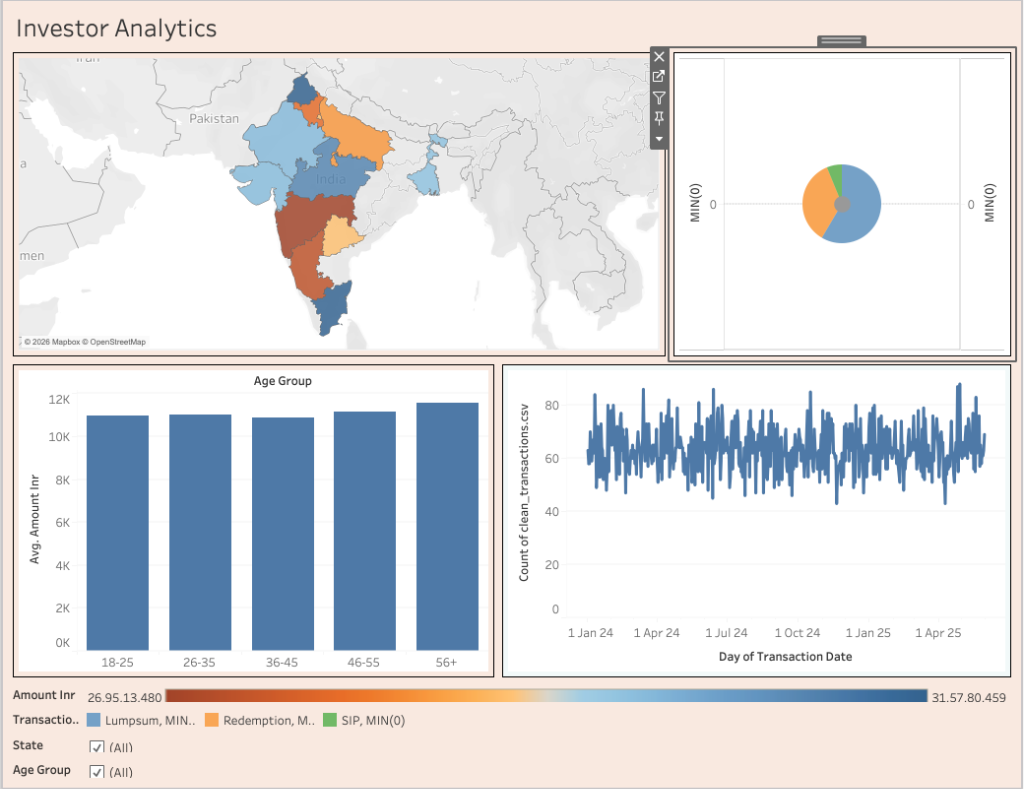

Layout of this report page (visuals, bound fields, positions):
{"tool":"tableau","page":{"name":"Investor Analytics","canvas":[1000,1000],"units":"permille","ordinal":3},"visuals":[{"type":"title","box":[7.7,10,984.6,52.3]},{"type":"worksheet","title":"Transaction Map","mark":"Automatic","box":[7.7,62.3,646.4,394.9]},{"type":"worksheet","title":"Donut Chart","mark":"Pie","rows":["Calculation_0651813985382401","Calculation_0651813985509379"],"box":[654.1,62.3,338.1,394.9]},{"type":"worksheet","title":"Age Group vs SIP","mark":"Automatic","rows":["amount_inr"],"cols":["age_group"],"box":[7.7,457.2,478.8,405.5]},{"type":"worksheet","title":"Monthly Volume","mark":"Automatic","rows":["clean_transactions.csv_D5369E10421C4589BEEE0BC592CF365D"],"cols":["transaction_date"],"box":[486.5,457.2,505.8,405.5]},{"type":"legend","title":"Transaction Map","param":"[federated.07aersg19n1dda16oy3hs0dwx7s3].[sum:amount_inr:qk]","box":[7.7,862.7,984.6,31.8]},{"type":"legend","title":"Donut Chart","param":"[federated.07aersg19n1dda16oy3hs0dwx7s3].[none:transaction_type:nk]\n[federated.0","box":[7.7,894.5,984.6,31.8]},{"type":"filter","title":"Transaction Map","param":"[federated.07aersg19n1dda16oy3hs0dwx7s3].[none:state:nk]","box":[7.7,926.4,984.6,31.8]},{"type":"filter","title":"Age Group vs SIP","param":"[federated.07aersg19n1dda16oy3hs0dwx7s3].[none:age_group:nk]","box":[7.7,958.2,984.6,31.8]}]}

Visuals, with their boxes on the dashboard's canvas, which has no fixed pixel size, in thousandths of its width and height (x1, y1, x2, y2). These are canvas units, not pixel positions in the 1024x789 screenshot, which may show the page scaled, cropped or inside an application window:
title: <bbox>8, 10, 992, 62</bbox>
"Transaction Map" worksheet: <bbox>8, 62, 654, 457</bbox>
"Donut Chart" worksheet (Pie marks): <bbox>654, 62, 992, 457</bbox>
"Age Group vs SIP" worksheet: <bbox>8, 457, 486, 863</bbox>
"Monthly Volume" worksheet: <bbox>486, 457, 992, 863</bbox>
"Transaction Map" legend: <bbox>8, 863, 992, 894</bbox>
"Donut Chart" legend: <bbox>8, 894, 992, 926</bbox>
"Transaction Map" filter: <bbox>8, 926, 992, 958</bbox>
"Age Group vs SIP" filter: <bbox>8, 958, 992, 990</bbox>
